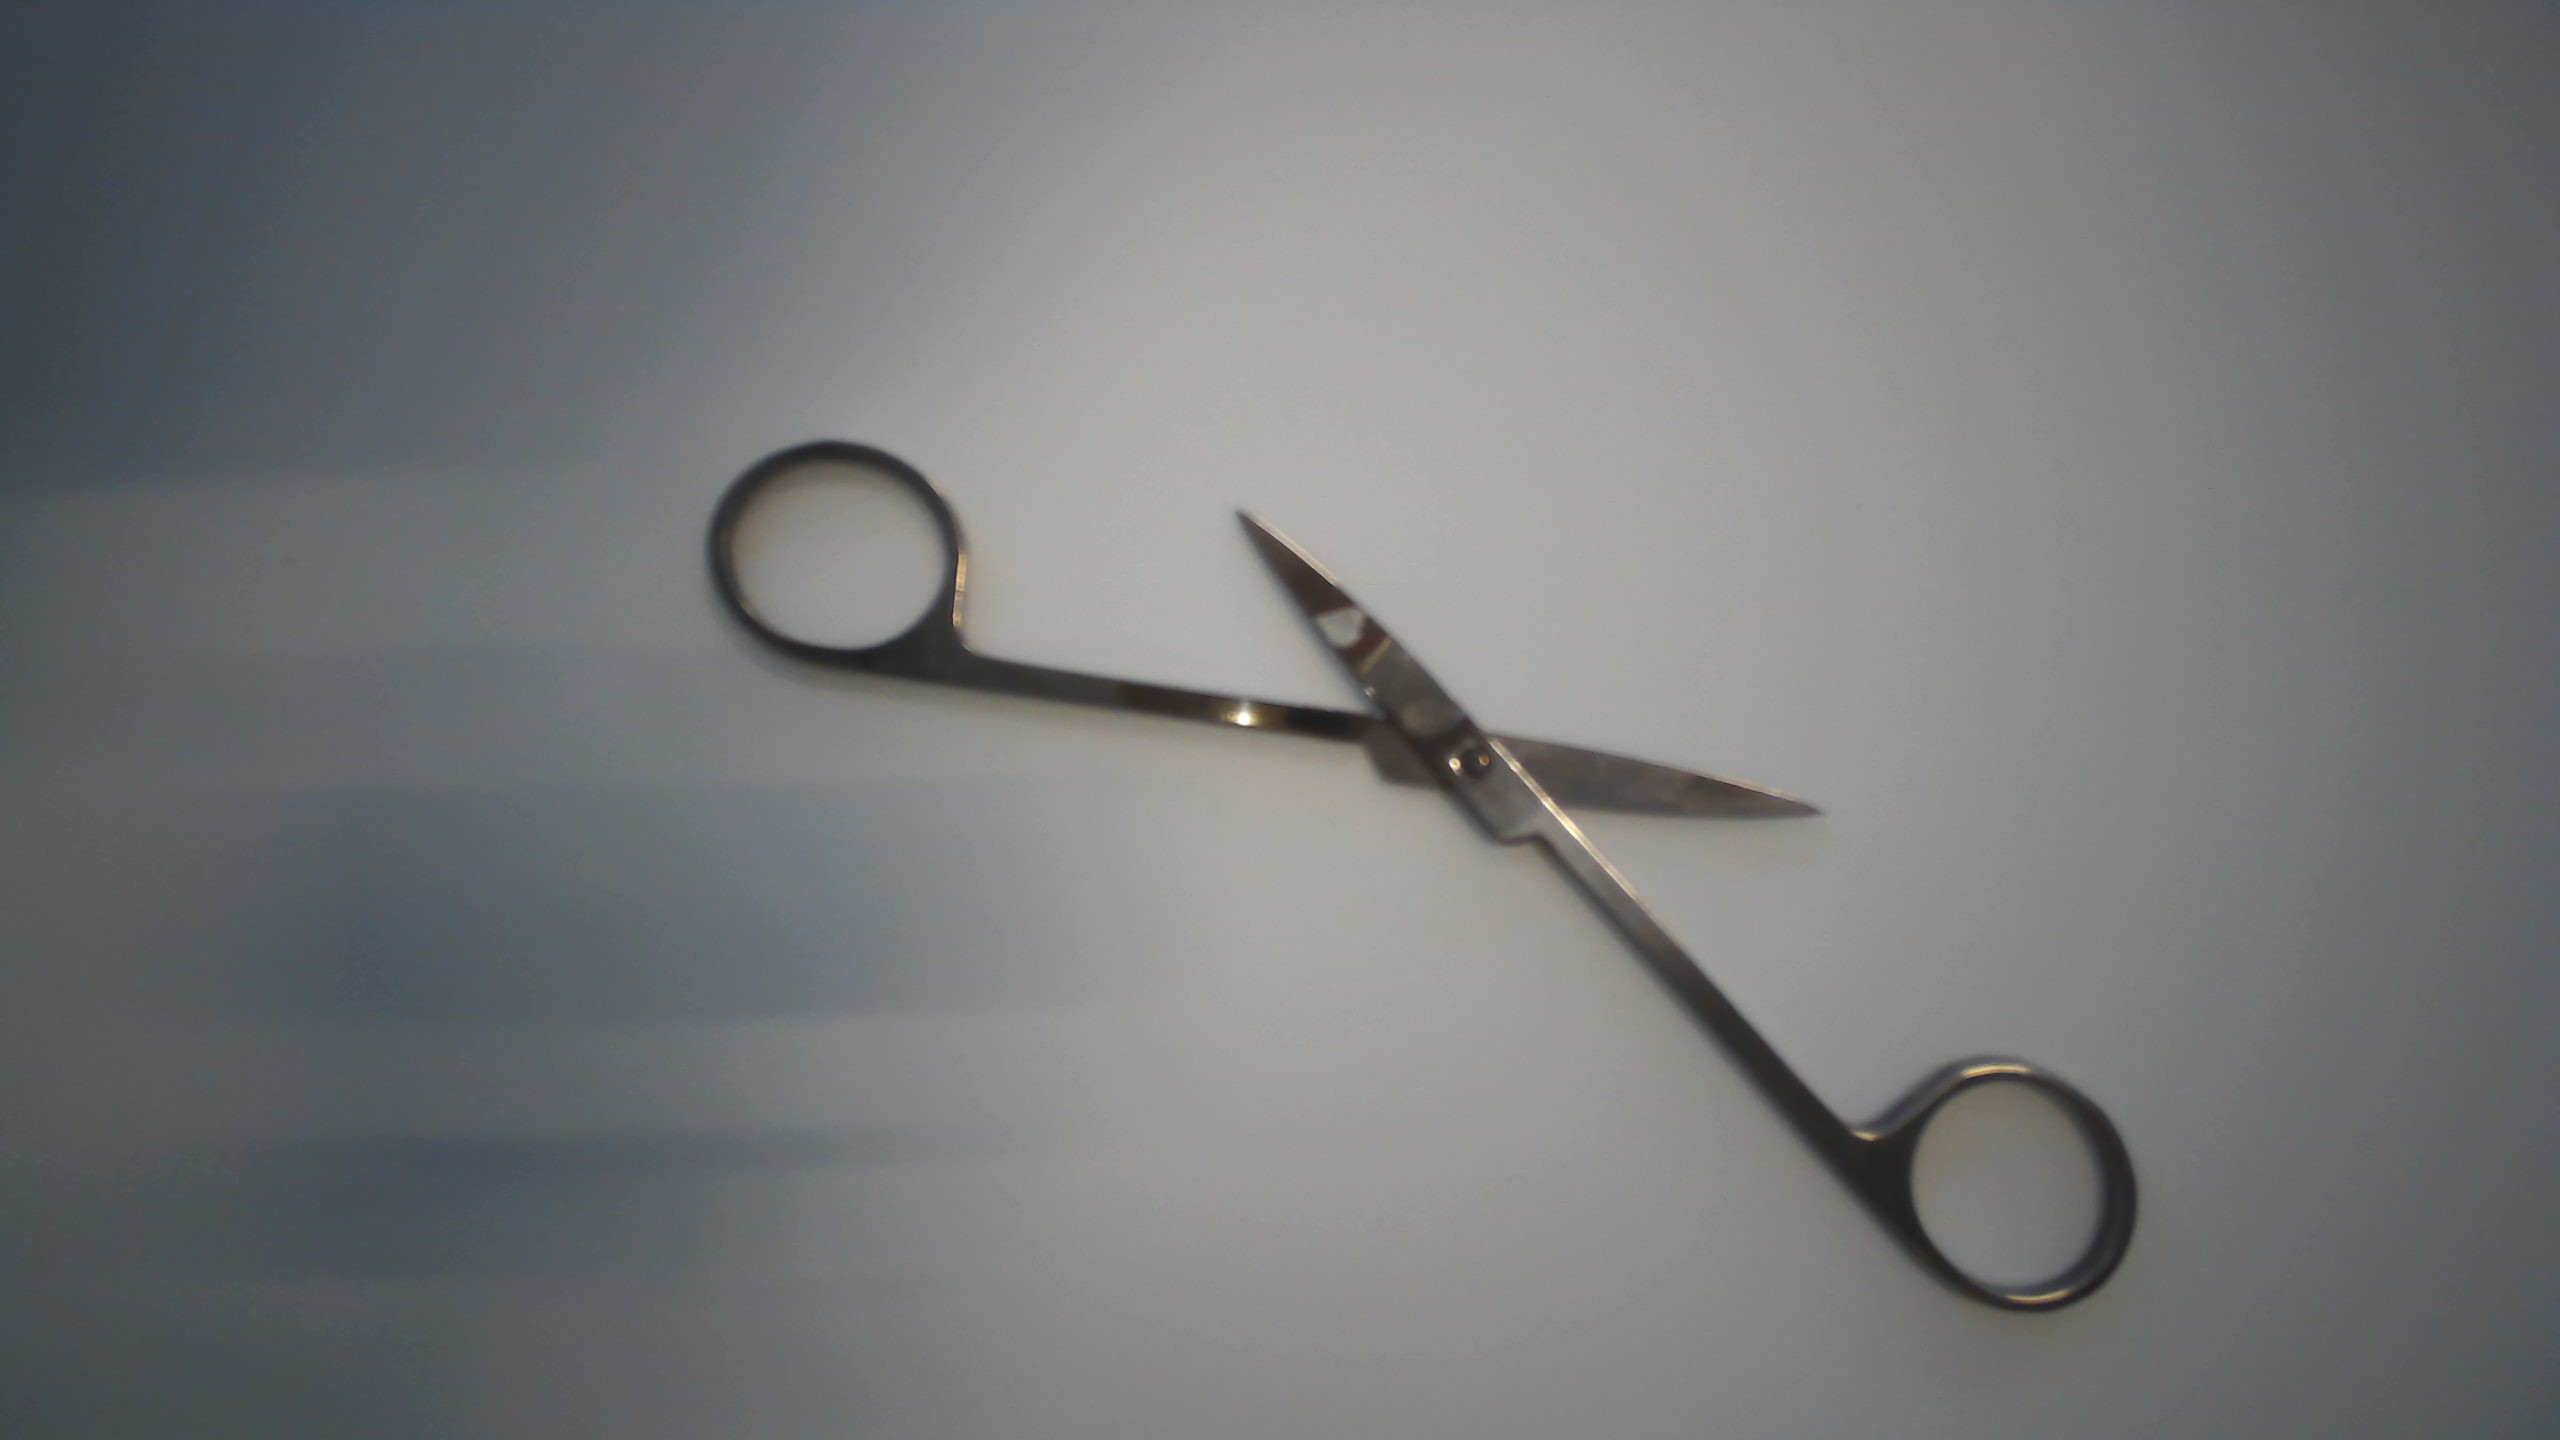Tissues: (1303, 596, 1368, 659)
